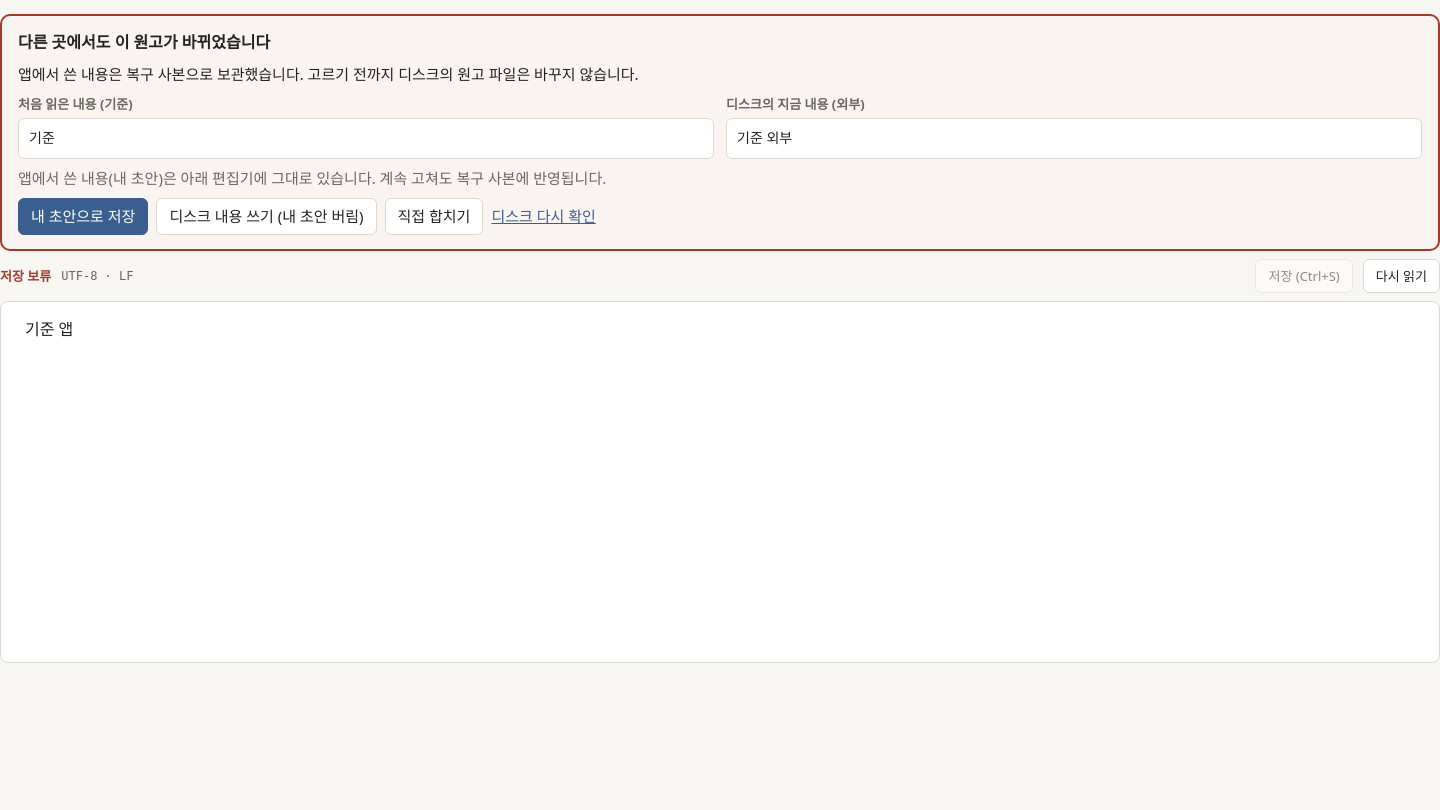
Test: 05 · external changes and conflicts › keep mine: saves over exactly the disk version that was shown
Click the button "내 초안으로 저장": point(83, 216) [18, 198, 148, 235]
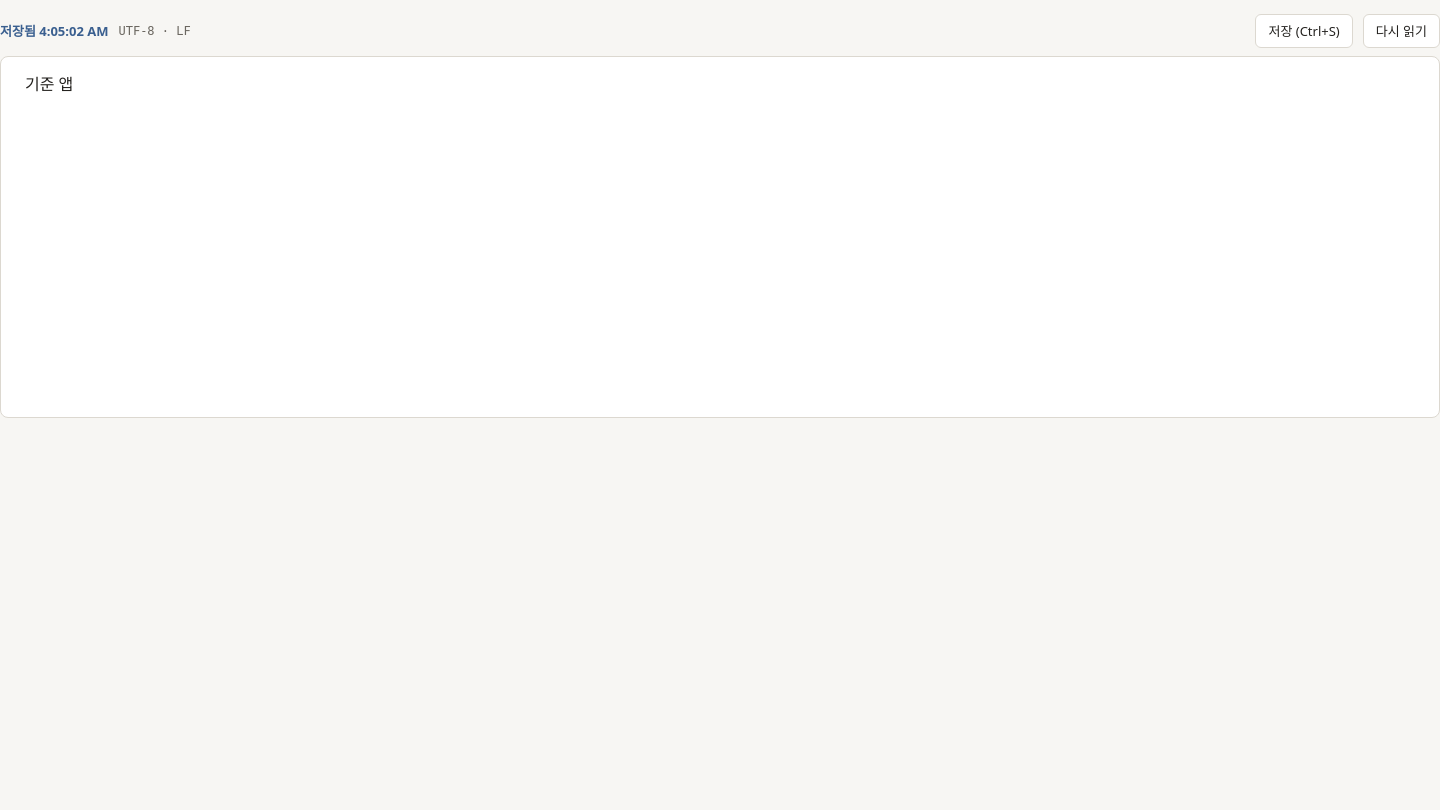
Result: the dialog is gone
Result: the text with test id "save-state" shows "저장됨" at [0, 22, 108, 40]
